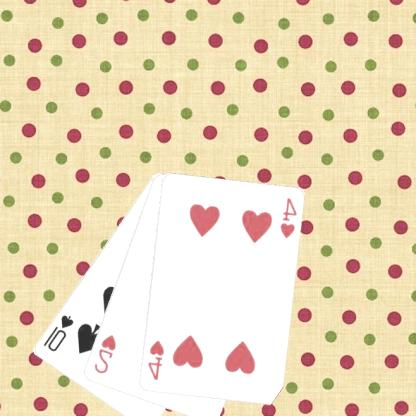10S: (42, 312, 76, 353)
2H: (92, 332, 119, 375)
4H: (278, 195, 300, 240), (146, 337, 167, 382)
